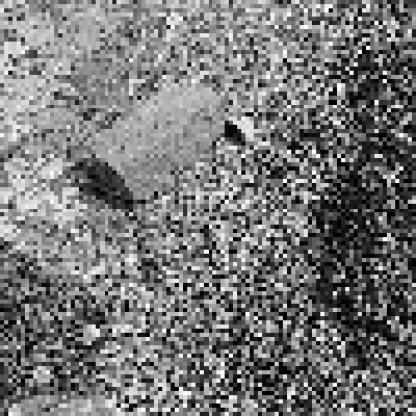brick: (83, 69, 230, 213)
